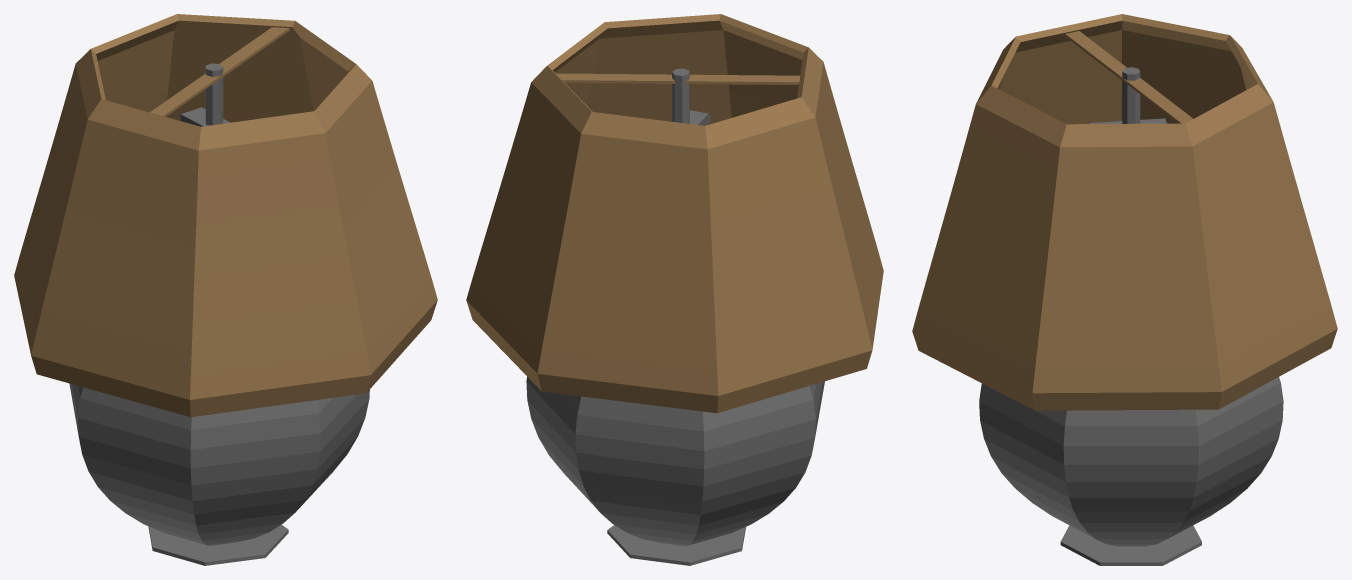
File: lampe.fbx
The picture shows the model from 3 angles, left to right: view 1: azimuth 30°, elevation 25°; view 2: azimuth 150°, elevation 25°; view 3: azimuth 270°, elevation 25°; orthographic projection.
Parts seen in each view (by area): view 1: Lamp; view 2: Lamp; view 3: Lamp.
Part boxes in pixels (box(x1,y1,x2,y2)): Lamp: box(14, 14, 437, 565); Lamp: box(466, 14, 883, 565); Lamp: box(912, 14, 1337, 565).
Bounding box in the file's own units: 1.41 × 1.74 × 1.44.
